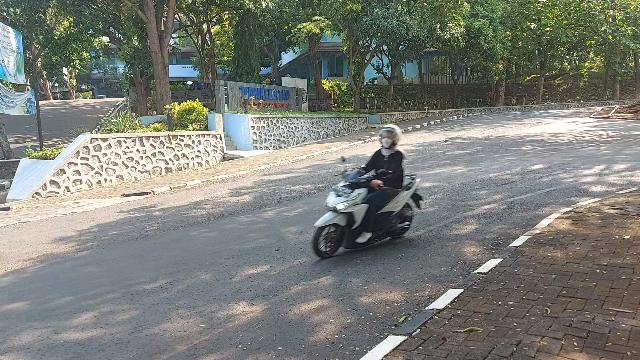helm: (379, 125, 403, 149)
motor: (314, 157, 425, 260)
